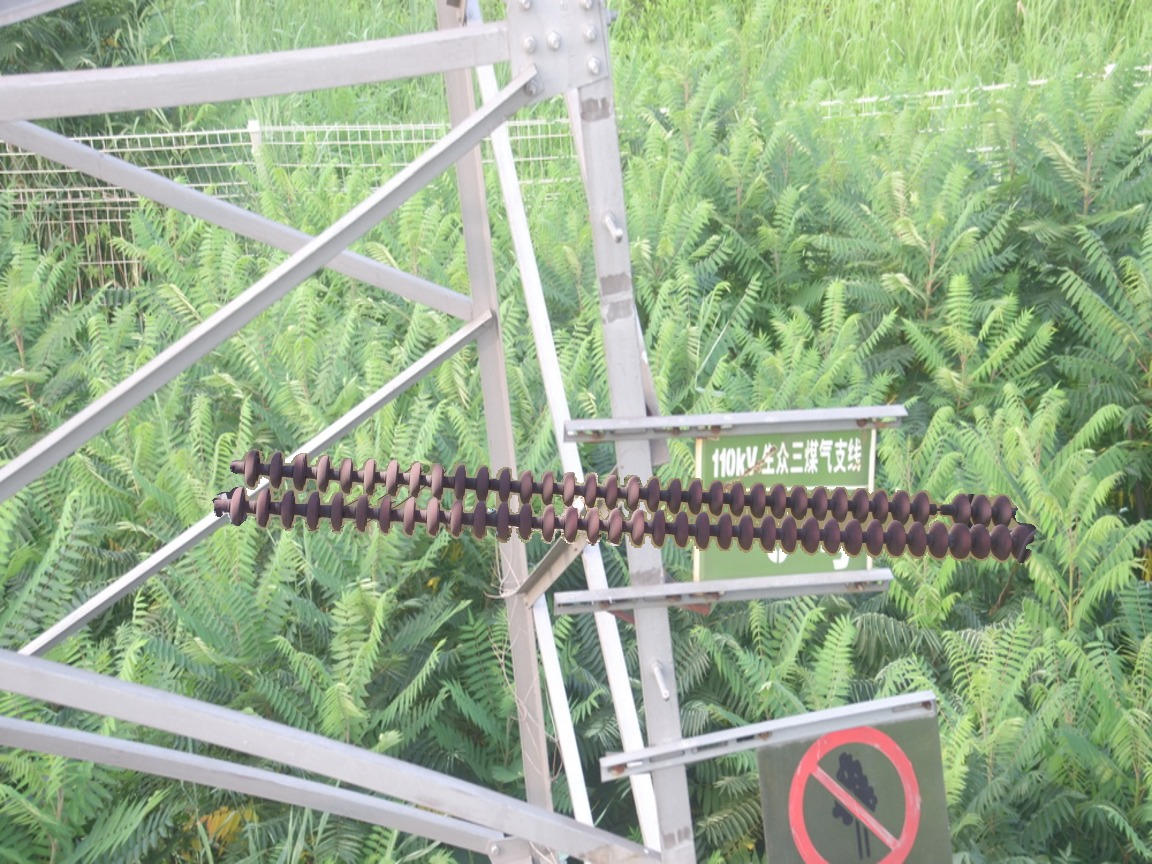defect: (909, 484, 973, 527)
